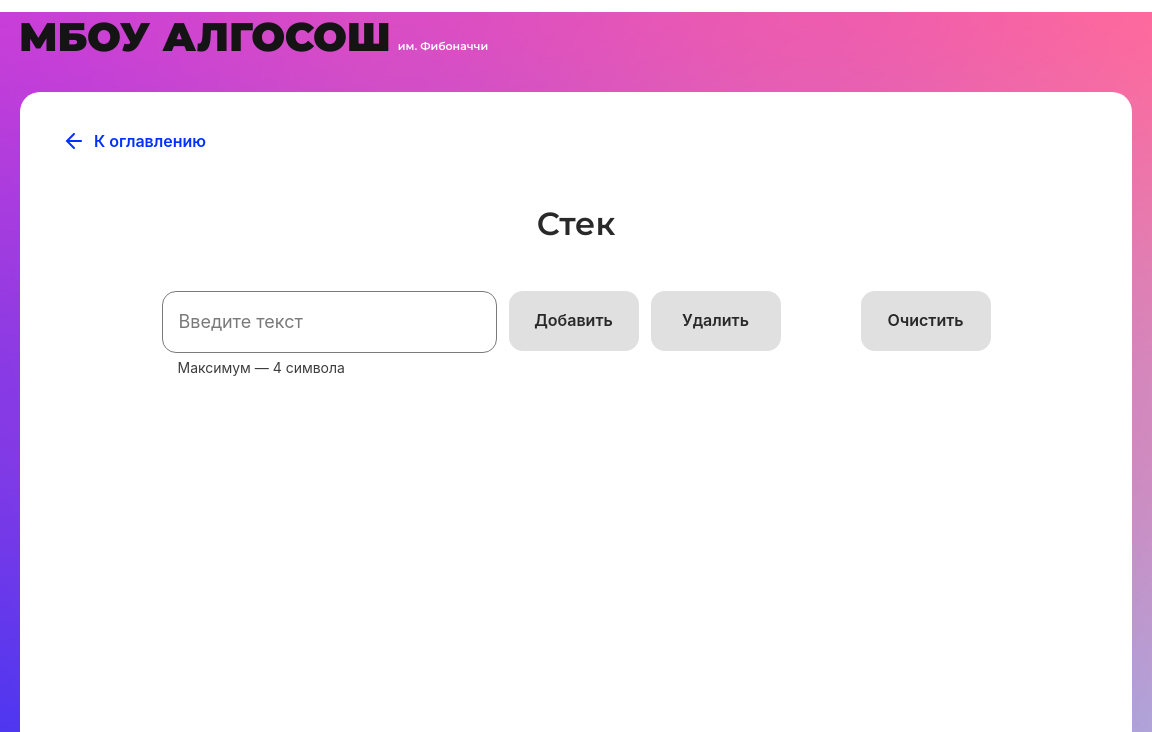
Test: Stack component testing › should check that the element was added to the stack correctly
Type "5" into the field with placeholder "Введите текст" at (330, 322), box [162,291,497,353]
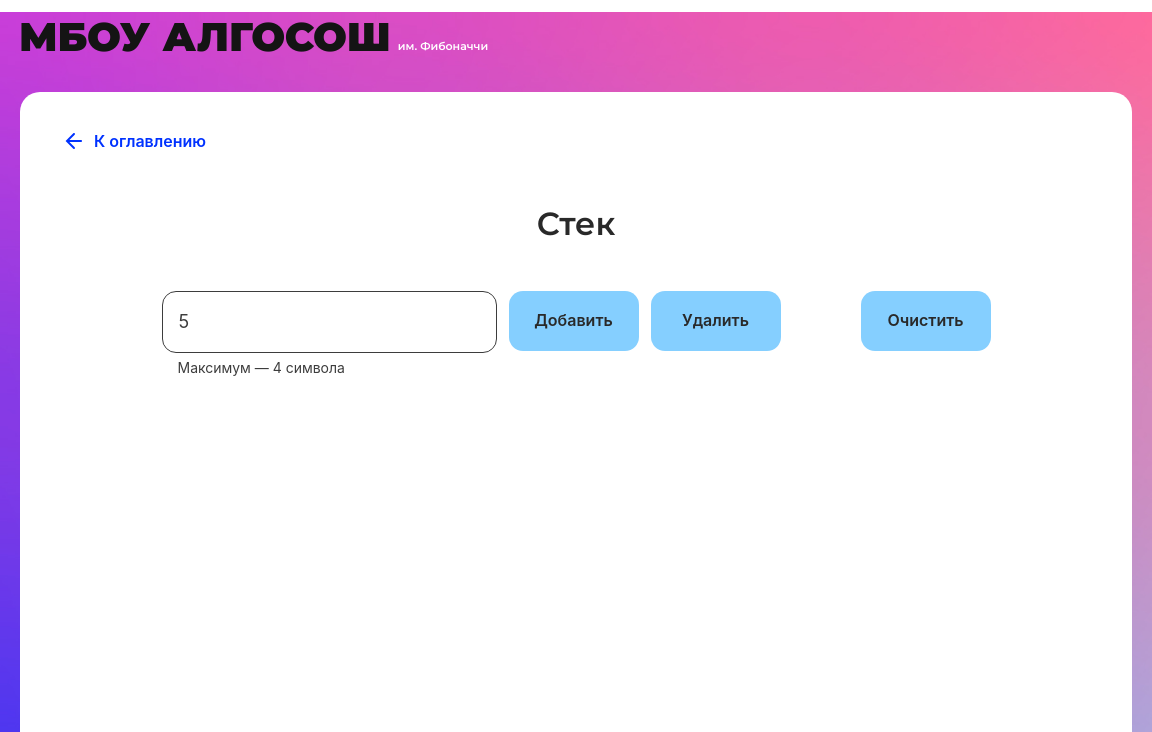
Click the button with test id "add-button" at (574, 321), box [509,291,639,351]
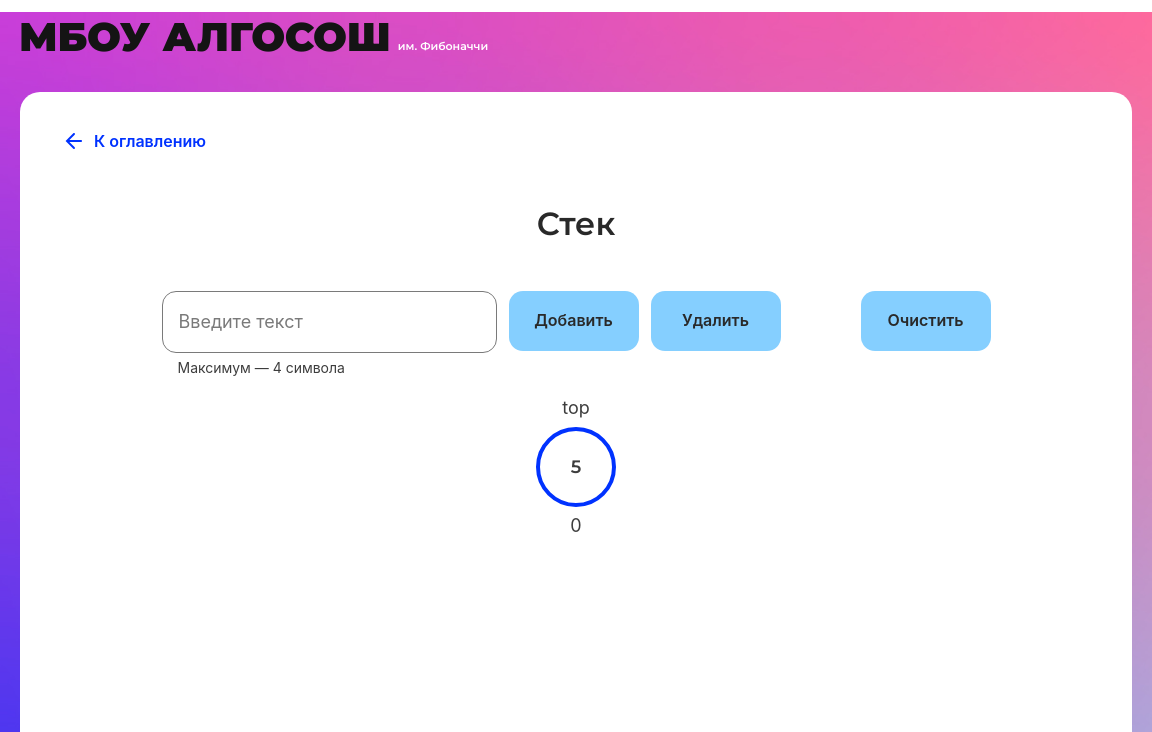
expect the text with test id "circle-0" reads "5": met, box [571,456,582,478]
